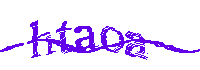a: (125, 30, 148, 59), (74, 26, 96, 51)
h: (30, 20, 55, 60)
o: (101, 24, 124, 54)
t: (56, 20, 74, 55)
